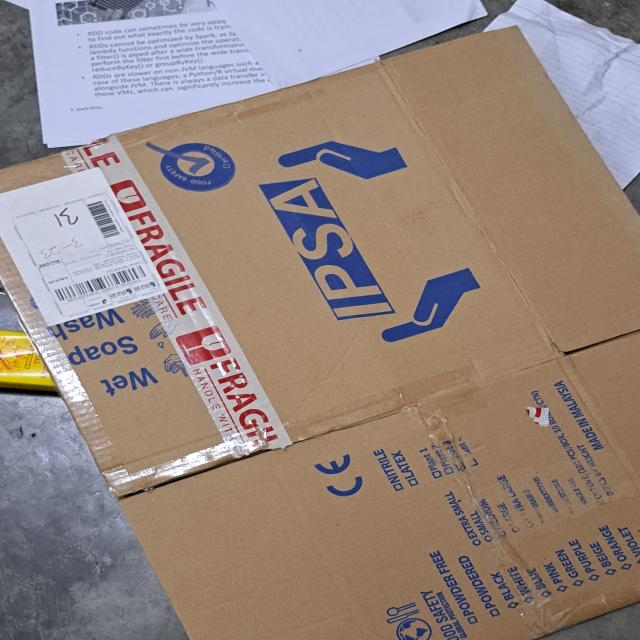cardboard: (0, 24, 640, 640)
paper: (0, 0, 491, 148), (484, 0, 640, 193)
